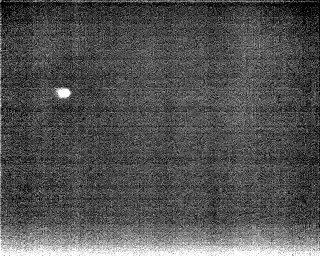AIRPLANE: (55, 85, 73, 101)
